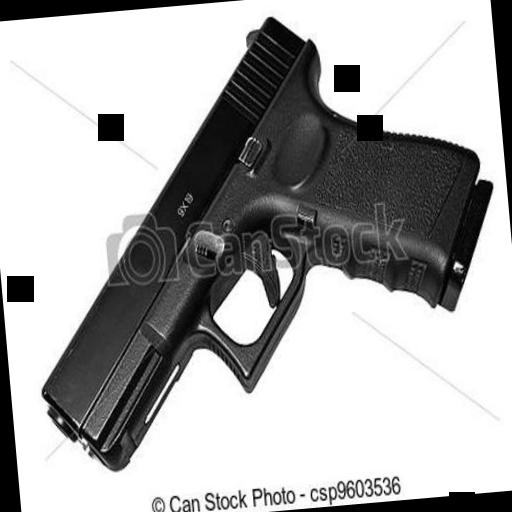Handgun: (9, 0, 512, 488)
